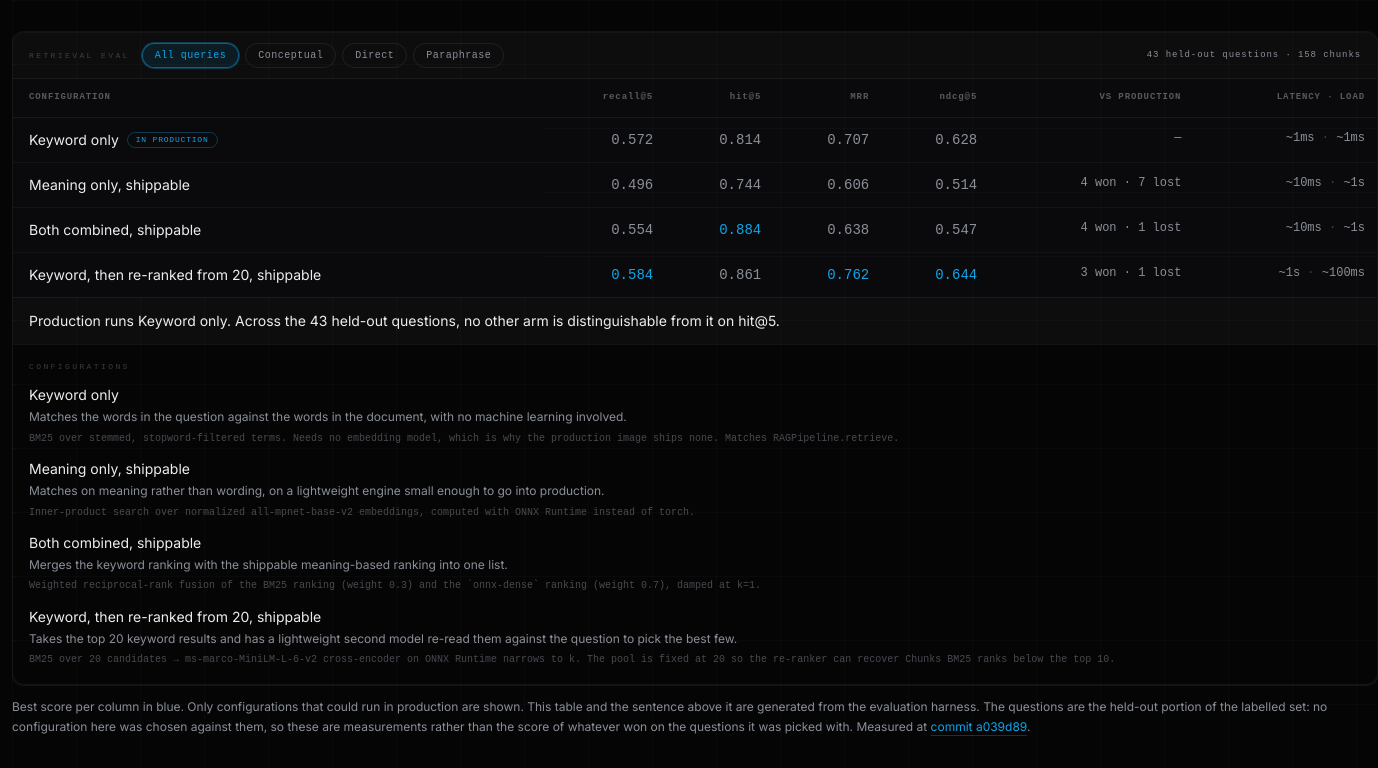
Test: EvalScoreboard › switches displayed metrics when clicking a category tab
Click the tab "Paraphrase": coordinates (459, 56) [413, 43, 504, 68]
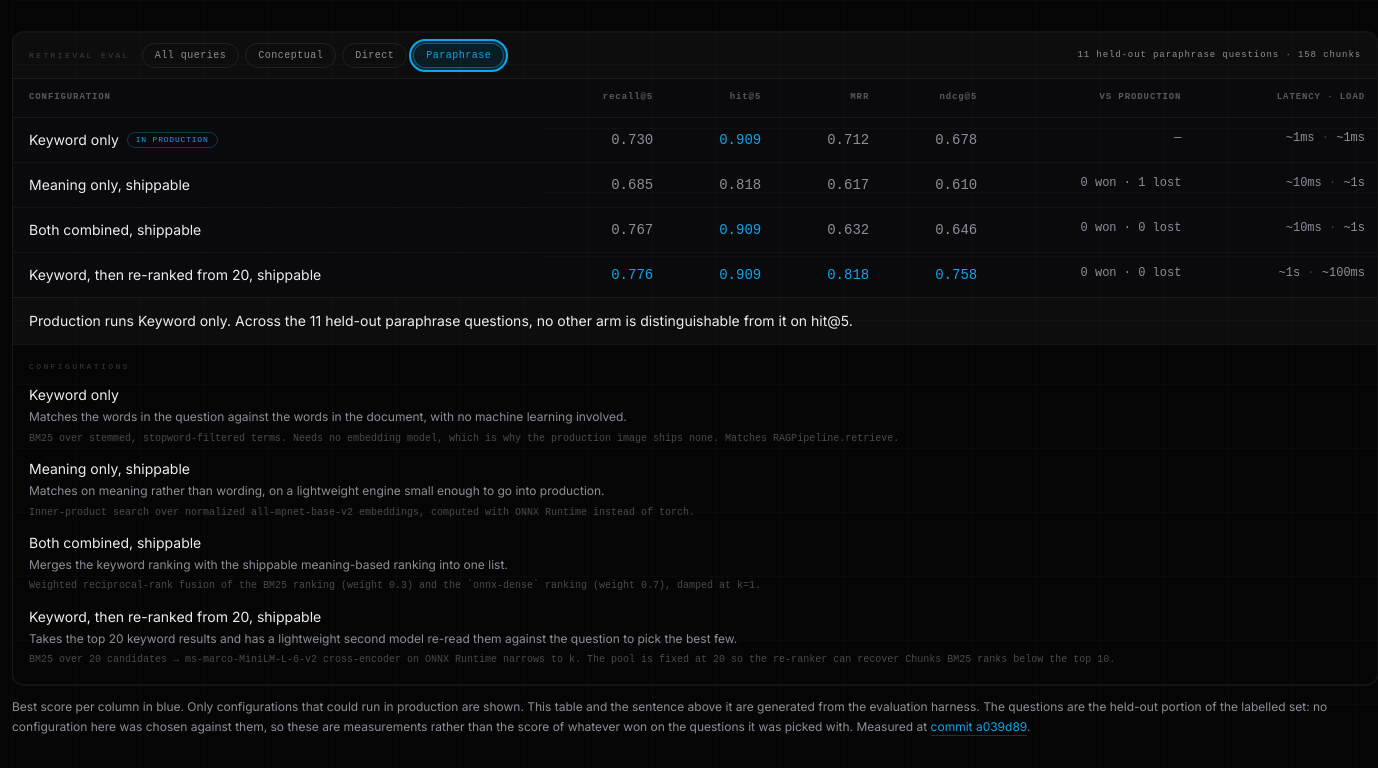
expect the text "0.730" is shown: met, box [543, 118, 665, 162]
expect the text "0.712" is shown: met, box [773, 118, 881, 162]
expect the text "0.678" is shown: met, box [881, 118, 989, 162]
